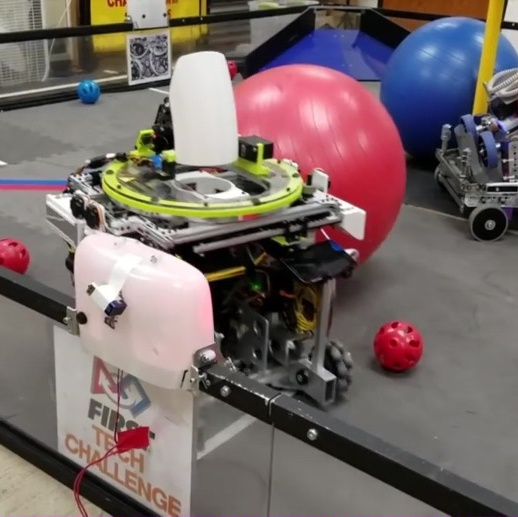ball: (369, 317, 425, 372), (1, 234, 32, 273), (77, 78, 101, 103)
robot: (38, 48, 363, 423), (425, 80, 517, 246)
yogaball: (242, 57, 408, 254), (375, 14, 508, 141)
